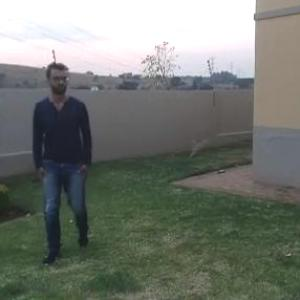follow: (44, 56, 100, 252)
